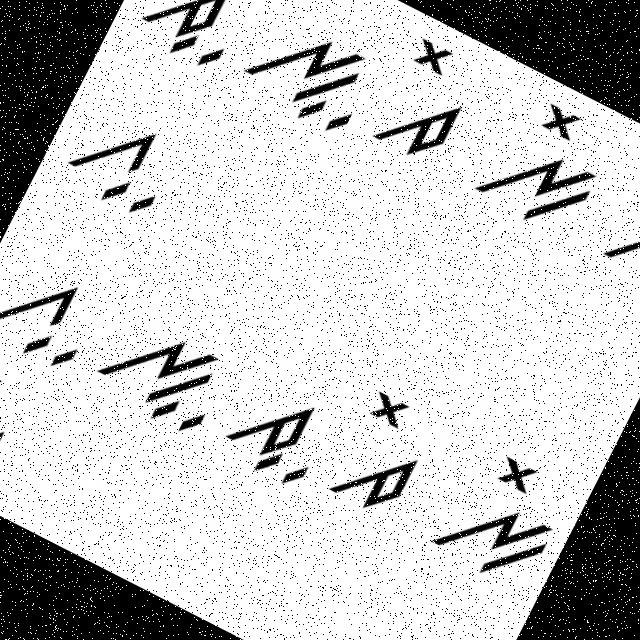gah: (56, 96, 187, 230), (0, 241, 115, 384)
go: (591, 144, 639, 296), (0, 356, 38, 505)
ngah: (229, 0, 385, 146), (86, 304, 238, 448)
ngo: (460, 81, 628, 257), (422, 433, 581, 600)
tah: (219, 372, 344, 496), (121, 0, 262, 92)
to: (320, 381, 454, 530), (361, 28, 492, 174)
